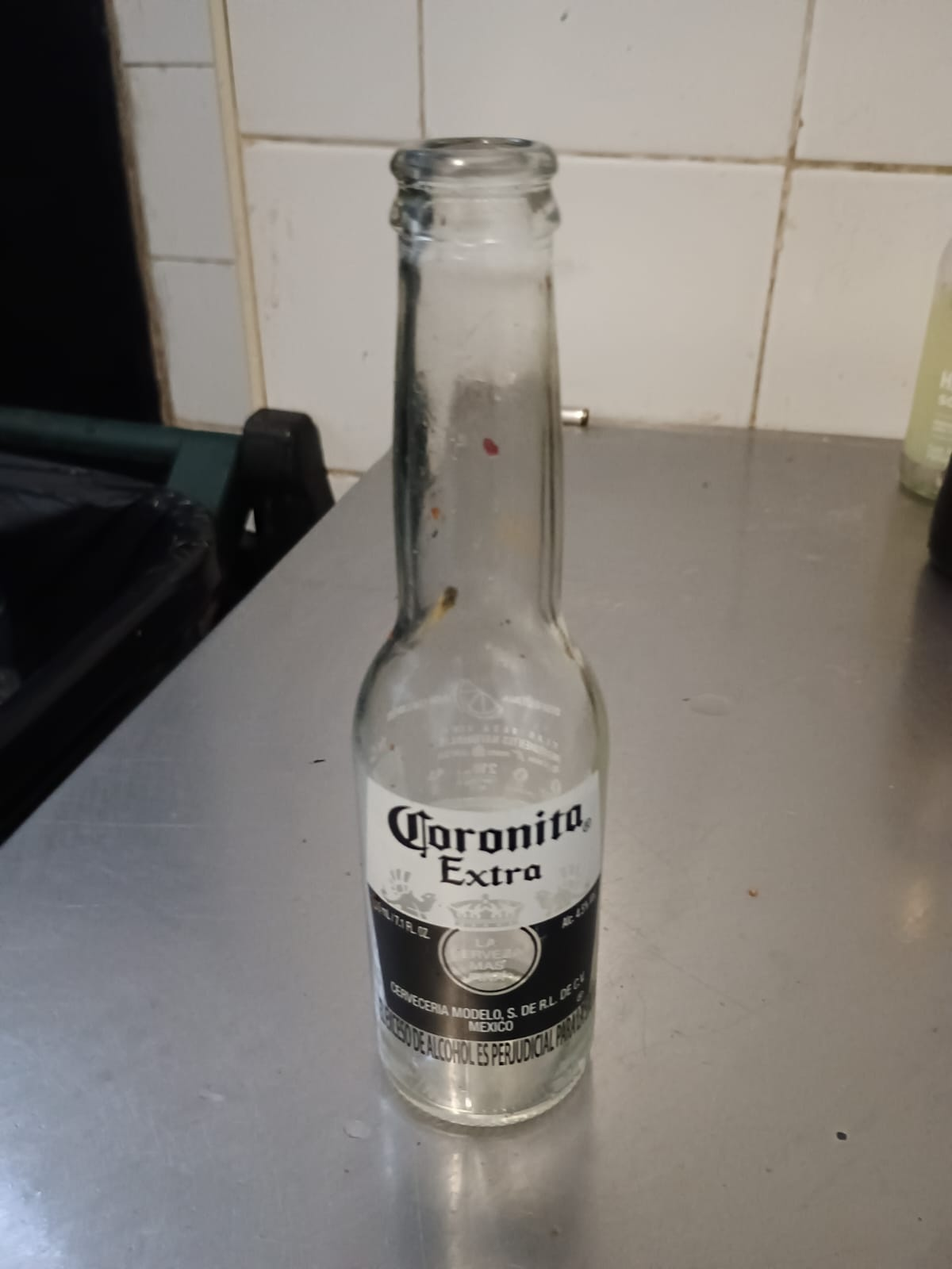Vidrio: (349, 136, 605, 1129)
